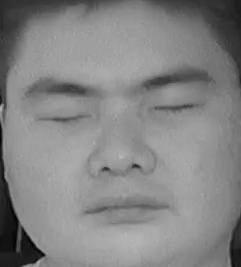blink: (148, 91, 201, 126), (39, 102, 94, 135)
mouth: (77, 187, 169, 231)
